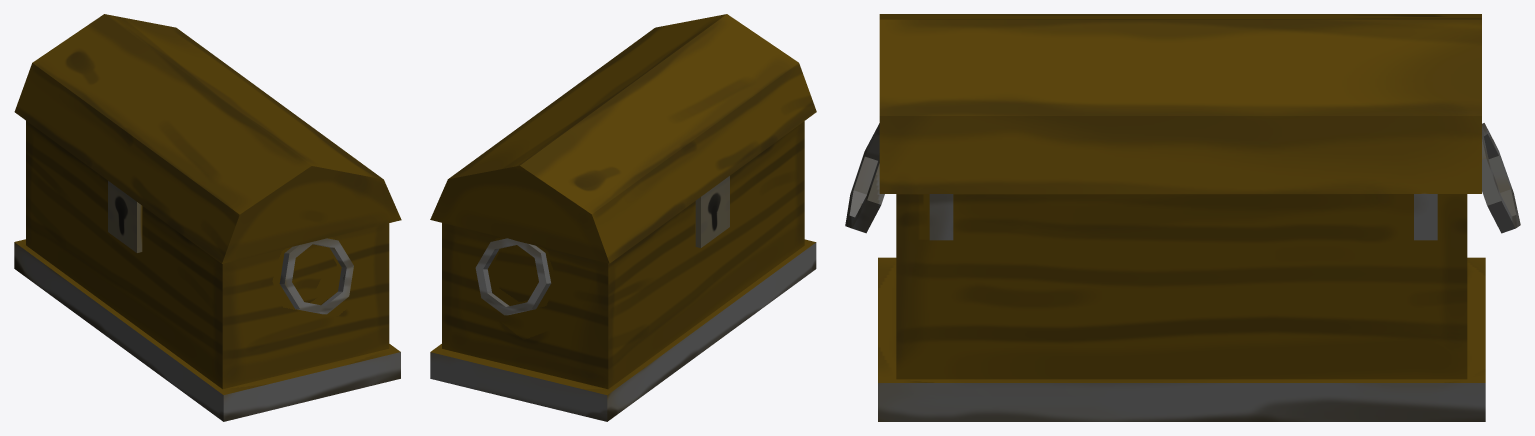
File: Bau.fbx
3 views of the same model, side by side, from view 1: azimuth 30°, elevation 25°; view 2: azimuth 150°, elevation 25°; view 3: azimuth 270°, elevation 25° (orthographic). The views are drawn at different scales.
Visible parts, largest first — view 1: Cylinder; view 2: Cylinder; view 3: Cylinder.
Boxes of the visible parts, left/top/right/bottom form: Cylinder: left=14, top=14, right=401, bottom=421; Cylinder: left=430, top=14, right=816, bottom=421; Cylinder: left=845, top=14, right=1520, bottom=421.
Bounding box in the file's own units: 210 × 261 × 471.
